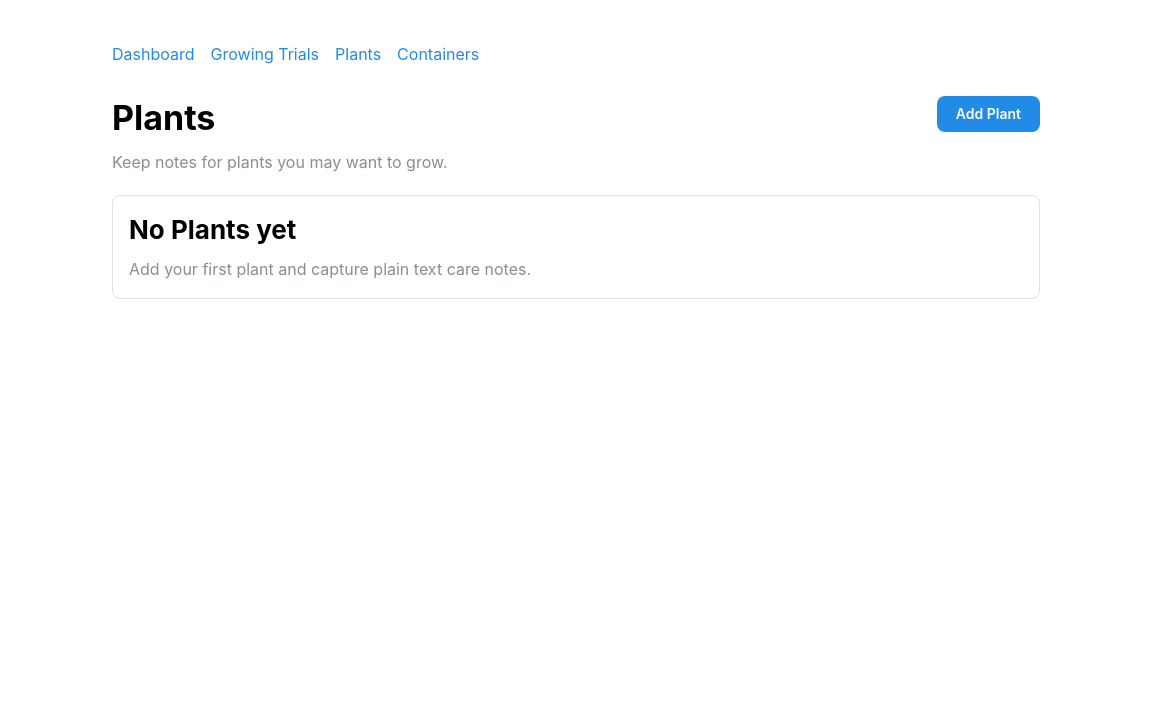
PlantsPage › creates a Plant with blank care notes and shows it in the list
The width and height of the screenshot is (1152, 720).
Expected: the heading "No Plants yet" is shown, [129,214,296,245]
Click the button "Add Plant" at (988, 114), box [937,96,1040,132]
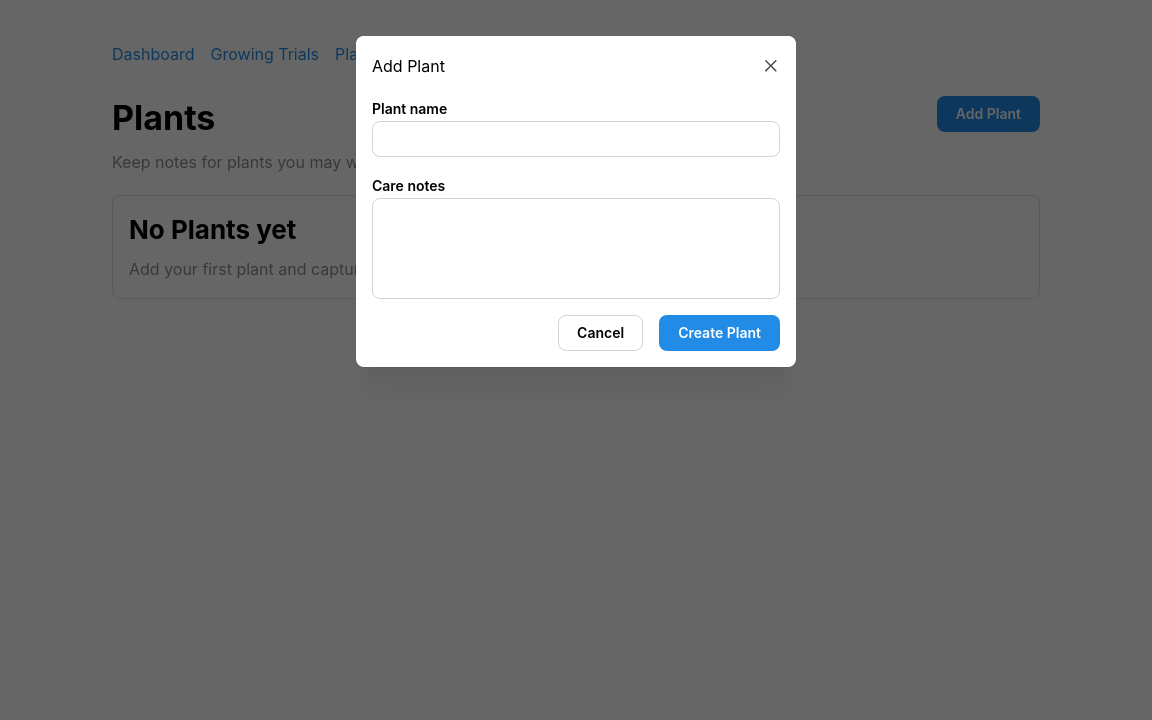
Type "Tomato" into the field labelled "Plant name" at (576, 139), box [372,121,780,157]
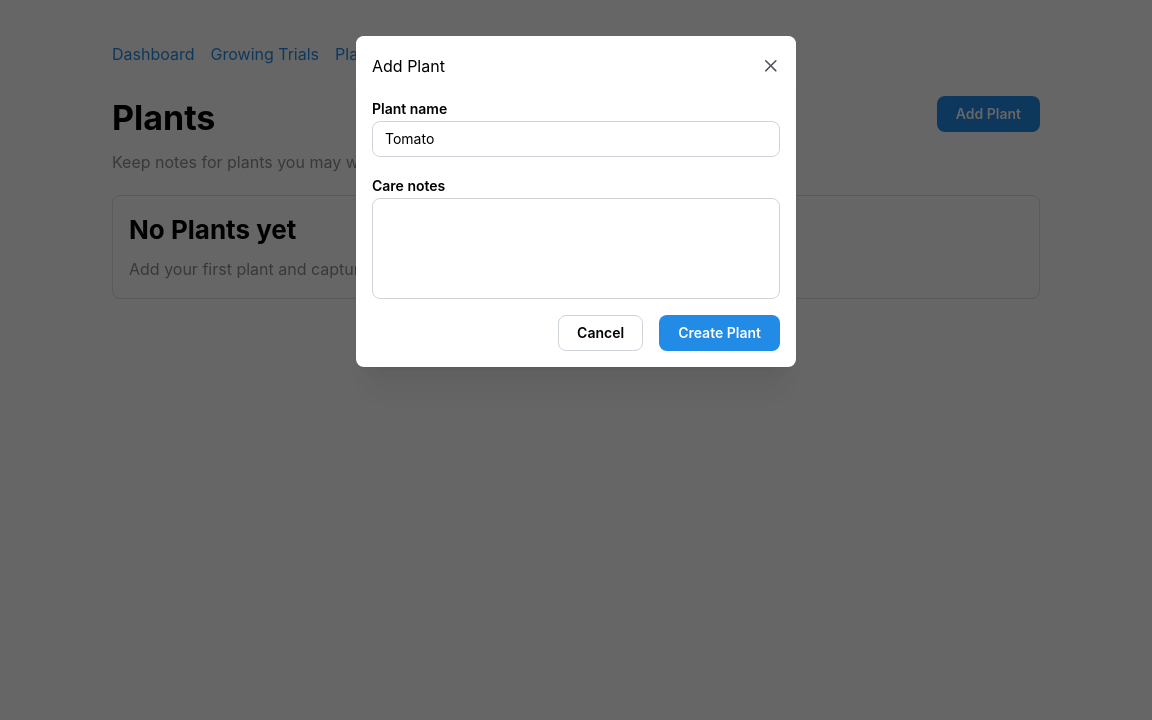
Click the button "Create Plant" at (720, 333), box [659,315,780,351]
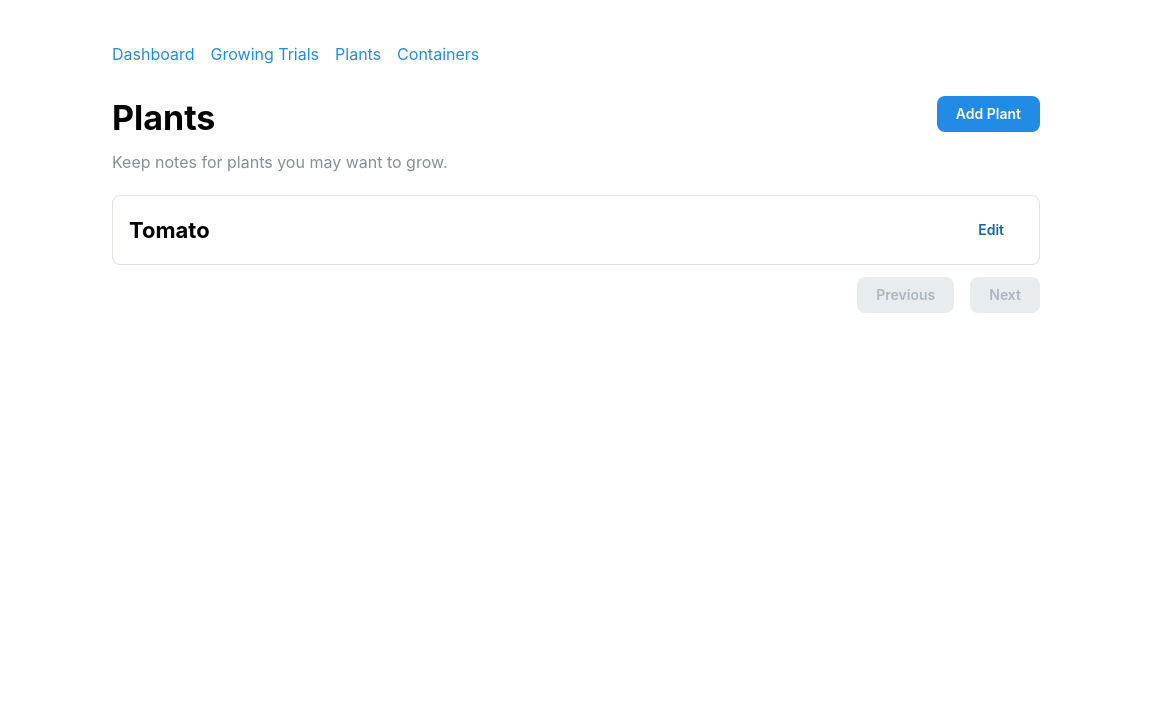
Now the heading "Tomato" is shown, box [129,215,210,245]
